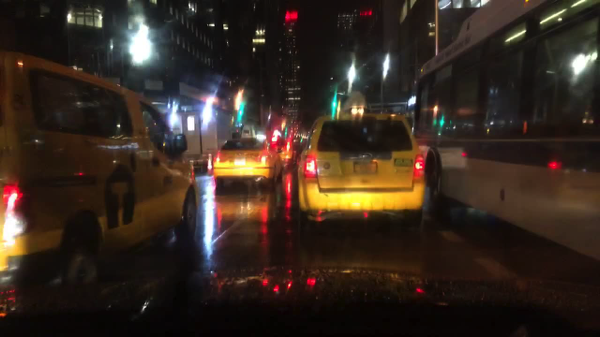bus: (397, 0, 599, 257)
car: (0, 49, 199, 291), (294, 92, 427, 227), (213, 125, 284, 192), (268, 134, 296, 167)
traffic light: (239, 106, 244, 118), (331, 100, 336, 109)
truck: (162, 109, 234, 174)
